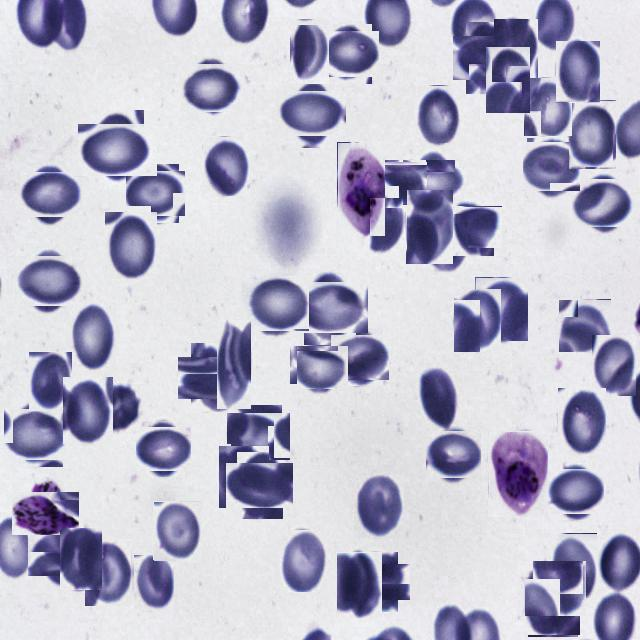difficult: (488, 431, 548, 517), (337, 142, 385, 236)
gametocyte: (18, 486, 74, 542)
red blood cell: (84, 116, 150, 182), (298, 275, 362, 339), (244, 272, 306, 334), (104, 211, 157, 279), (18, 250, 78, 310), (406, 189, 453, 264), (524, 560, 586, 616), (8, 405, 66, 464), (475, 277, 528, 341), (459, 29, 517, 87), (282, 84, 340, 142), (63, 377, 113, 444), (568, 100, 616, 169), (85, 539, 134, 606), (353, 474, 404, 538), (70, 302, 116, 372), (558, 388, 606, 454), (184, 60, 240, 116), (230, 408, 286, 464), (184, 350, 240, 406), (34, 526, 90, 582), (232, 458, 288, 514), (219, 446, 269, 508), (453, 288, 501, 352), (336, 552, 382, 618), (217, 320, 251, 409), (574, 176, 630, 230), (485, 46, 530, 113), (551, 533, 597, 598), (23, 168, 78, 222), (153, 501, 202, 561), (524, 140, 578, 194), (280, 530, 327, 592), (202, 136, 250, 196), (524, 77, 572, 136), (558, 299, 611, 352), (322, 28, 376, 80), (422, 214, 468, 275), (556, 42, 600, 104), (130, 168, 182, 220), (334, 331, 386, 383), (549, 465, 601, 517), (527, 584, 579, 636), (428, 428, 479, 481), (592, 335, 636, 396), (408, 156, 460, 207), (289, 18, 329, 84), (416, 85, 461, 143), (60, 528, 102, 590), (494, 19, 538, 78), (294, 342, 345, 392), (92, 380, 142, 431), (29, 352, 72, 411), (138, 424, 188, 474), (448, 202, 498, 252), (420, 364, 458, 428), (356, 558, 404, 606), (134, 556, 174, 612), (381, 161, 426, 207), (370, 198, 403, 258)
